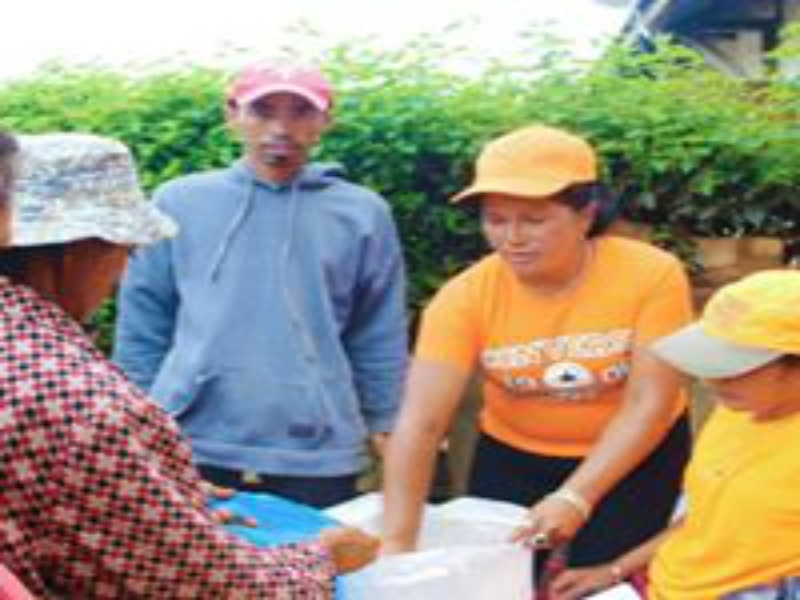TsisyArotava: (466, 129, 601, 296), (229, 59, 344, 189)
